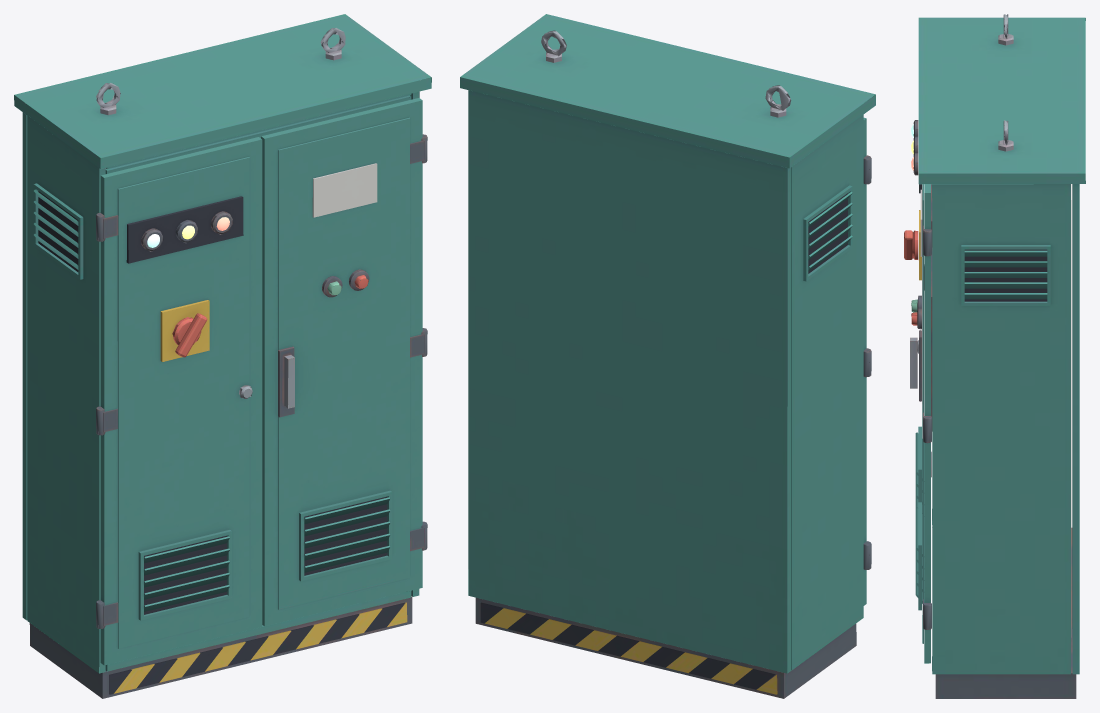
File: quadro_eletrico.glb
3 views of the same model, side by side, from view 1: azimuth 30°, elevation 25°; view 2: azimuth 150°, elevation 25°; view 3: azimuth 270°, elevation 25° (orthographic). The views are drawn at different scales.
Parts seen in each view (by area): view 1: electrical-cabinet_body, electrical-cabinet_door_left, electrical-cabinet_door_right; view 2: electrical-cabinet_body, electrical-cabinet_door_left; view 3: electrical-cabinet_body, electrical-cabinet_door_right, electrical-cabinet_door_left.
Boxes of the visible parts, x1,y1,x2,y2 form: electrical-cabinet_body: [14, 14, 431, 698]; electrical-cabinet_door_left: [96, 137, 262, 665]; electrical-cabinet_door_right: [261, 98, 427, 626]; electrical-cabinet_body: [460, 14, 875, 698]; electrical-cabinet_door_left: [863, 117, 871, 605]; electrical-cabinet_body: [918, 14, 1085, 698]; electrical-cabinet_door_right: [910, 184, 932, 663]; electrical-cabinet_door_left: [904, 120, 932, 516].
Bounding box in the file's own units: 1.24 × 2.06 × 0.6084.
Materials: 6 (3 with a texture image).
